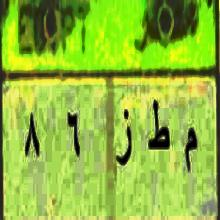6: (61, 106, 86, 166)
8: (18, 102, 46, 170)
Taa: (146, 88, 171, 165)
meem: (179, 118, 199, 187)
zay: (109, 100, 135, 175)
